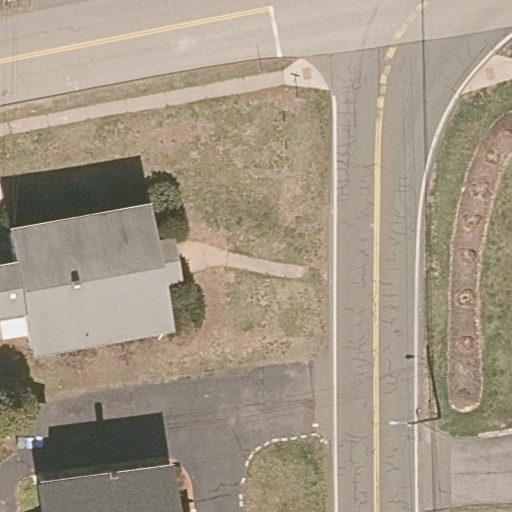DT: (387, 411, 442, 436)
